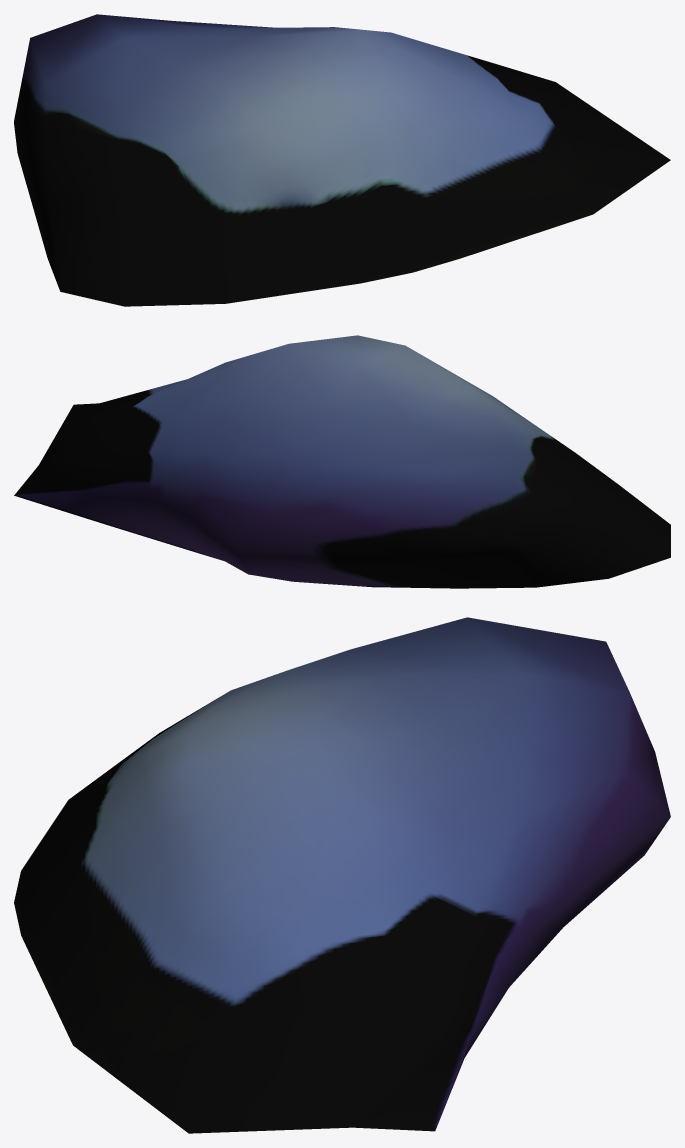
The model's file is Swamp_Rocks_5.glb.
The picture shows the model from 3 angles, top to bottom: view 1: azimuth 30°, elevation 25°; view 2: azimuth 150°, elevation 25°; view 3: azimuth 270°, elevation 25°; orthographic projection. The views are drawn at different scales.
Parts seen in each view (by area): view 1: Cube.002; view 2: Cube.002; view 3: Cube.002.
Part boxes in pixels (<box>): Cube.002: <box>14,14,670,306</box>; Cube.002: <box>14,335,670,588</box>; Cube.002: <box>14,617,670,1133</box>.
Size of the model in its own units: 175 by 48.26 by 124.
1 material, 1 textured.
